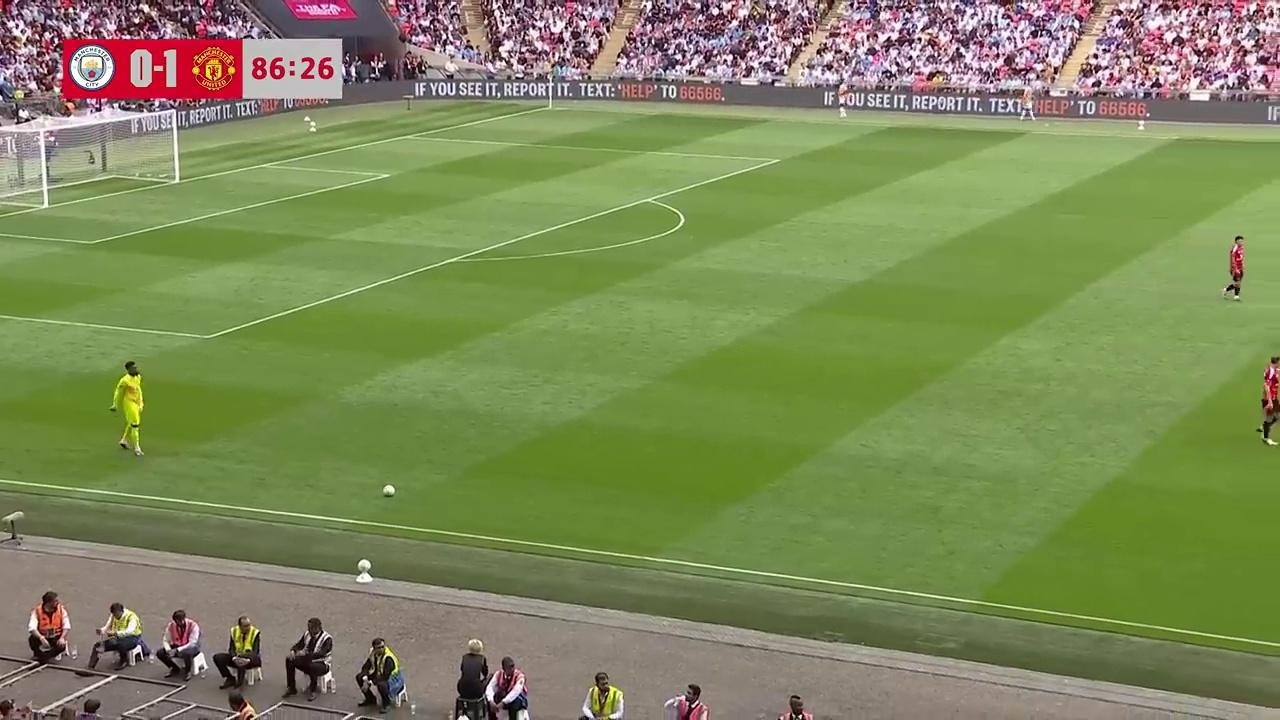ball: (381, 481, 397, 498)
player: (110, 359, 145, 458), (1259, 356, 1279, 446), (1221, 234, 1245, 300)
